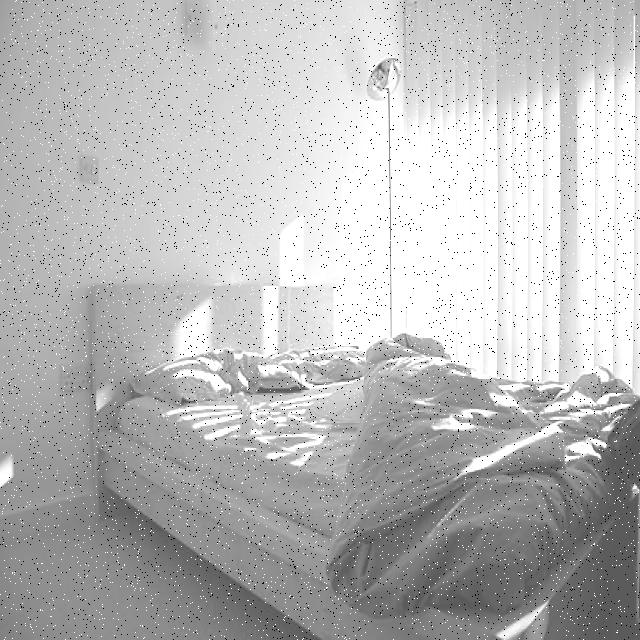bed: (94, 318, 640, 640)
